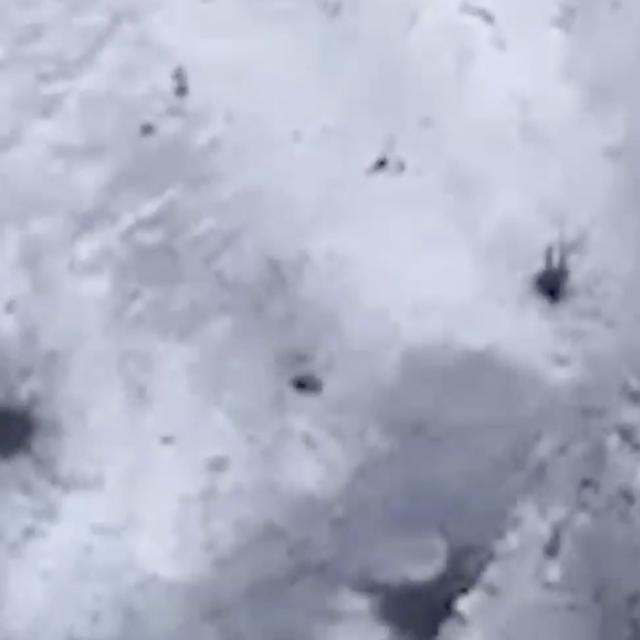vehicle: (289, 369, 326, 399)
